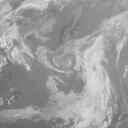cyclone: (43, 39, 99, 101)
